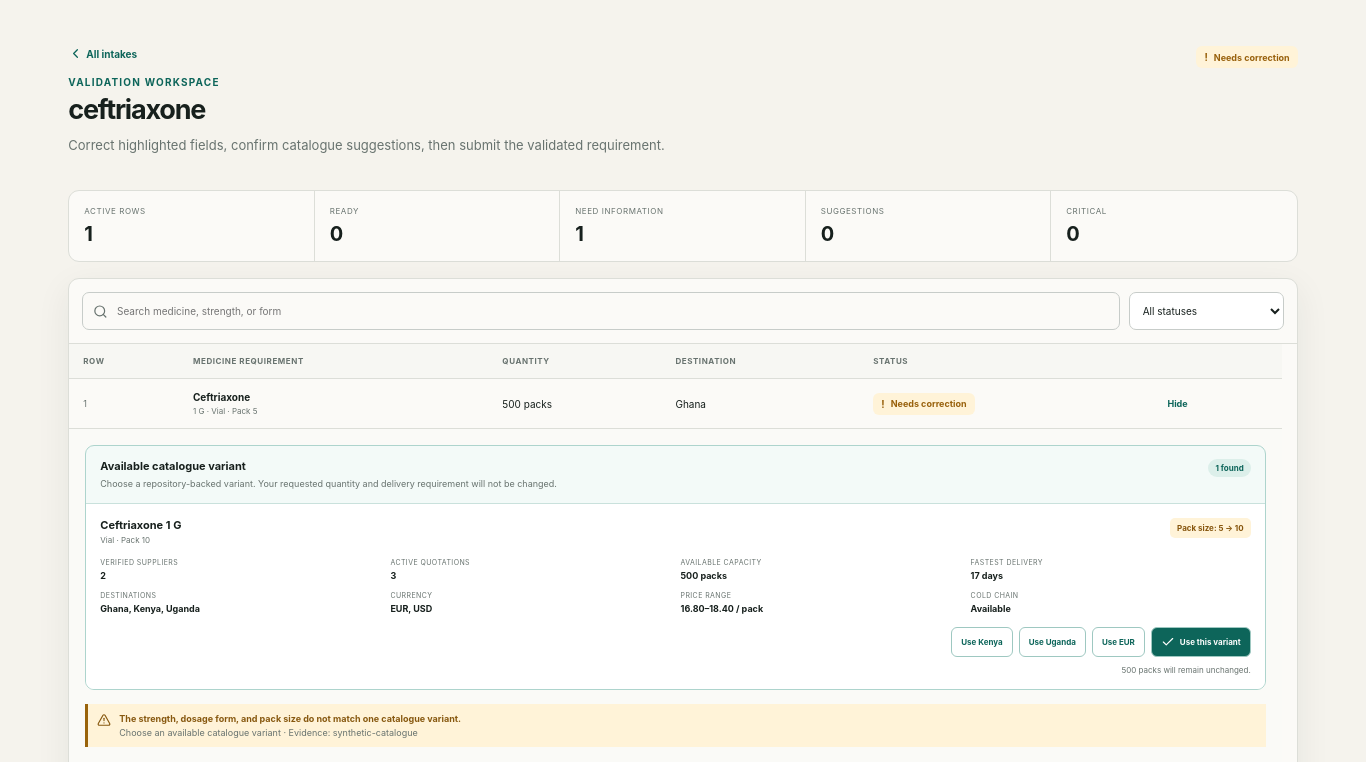
Test case: buyer intake correction workflow › shows a catalogue variant with coverage and preserves the requested quantity
The image size is (1366, 762).
Expected: the text "Available catalogue variant" is shown, [100, 459, 246, 473]
Expected: the text "Pack size: 5 → 10" is shown, [1170, 518, 1251, 538]
Click the button "Use this variant": (1201, 642) [1151, 627, 1251, 657]
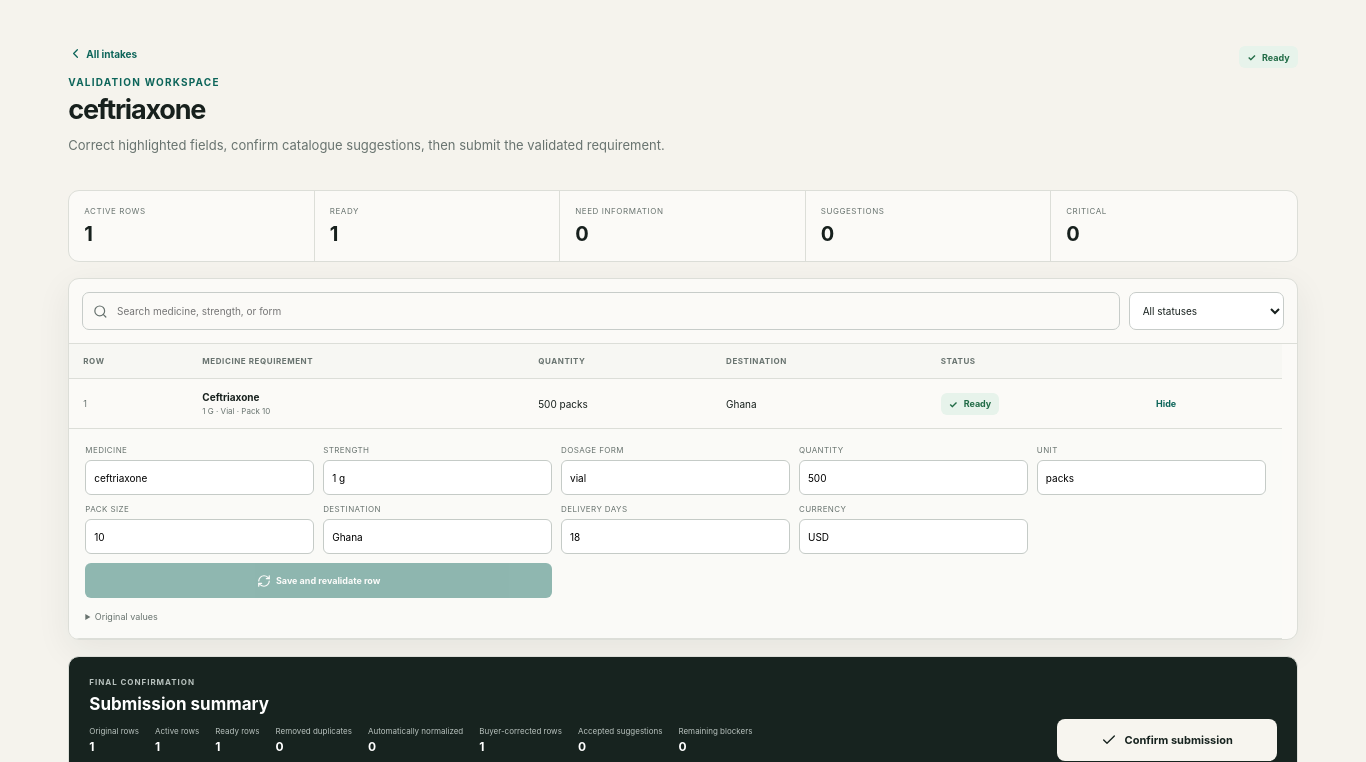
Now the 1st text "Ready" is shown, box [1262, 52, 1290, 62]
